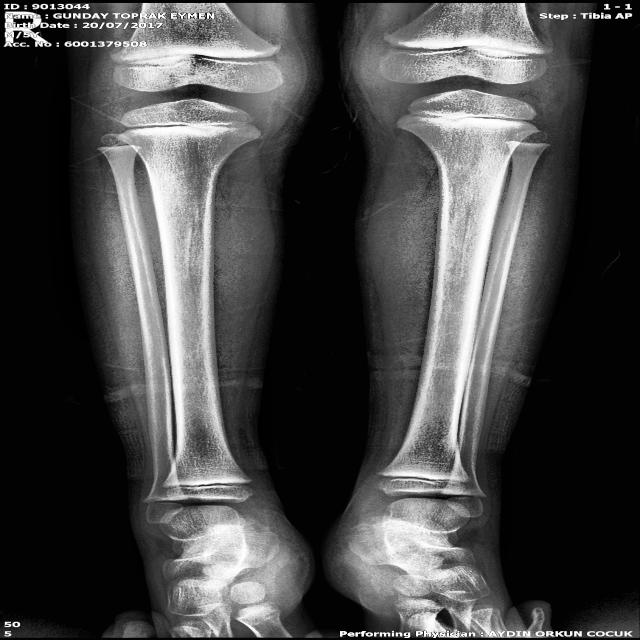Not_Fracture: (47, 0, 609, 640)
